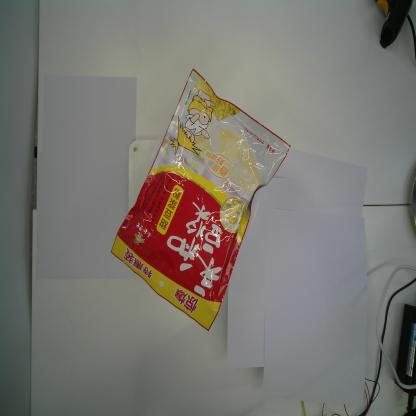Instant Drink: (108, 66, 291, 333)
